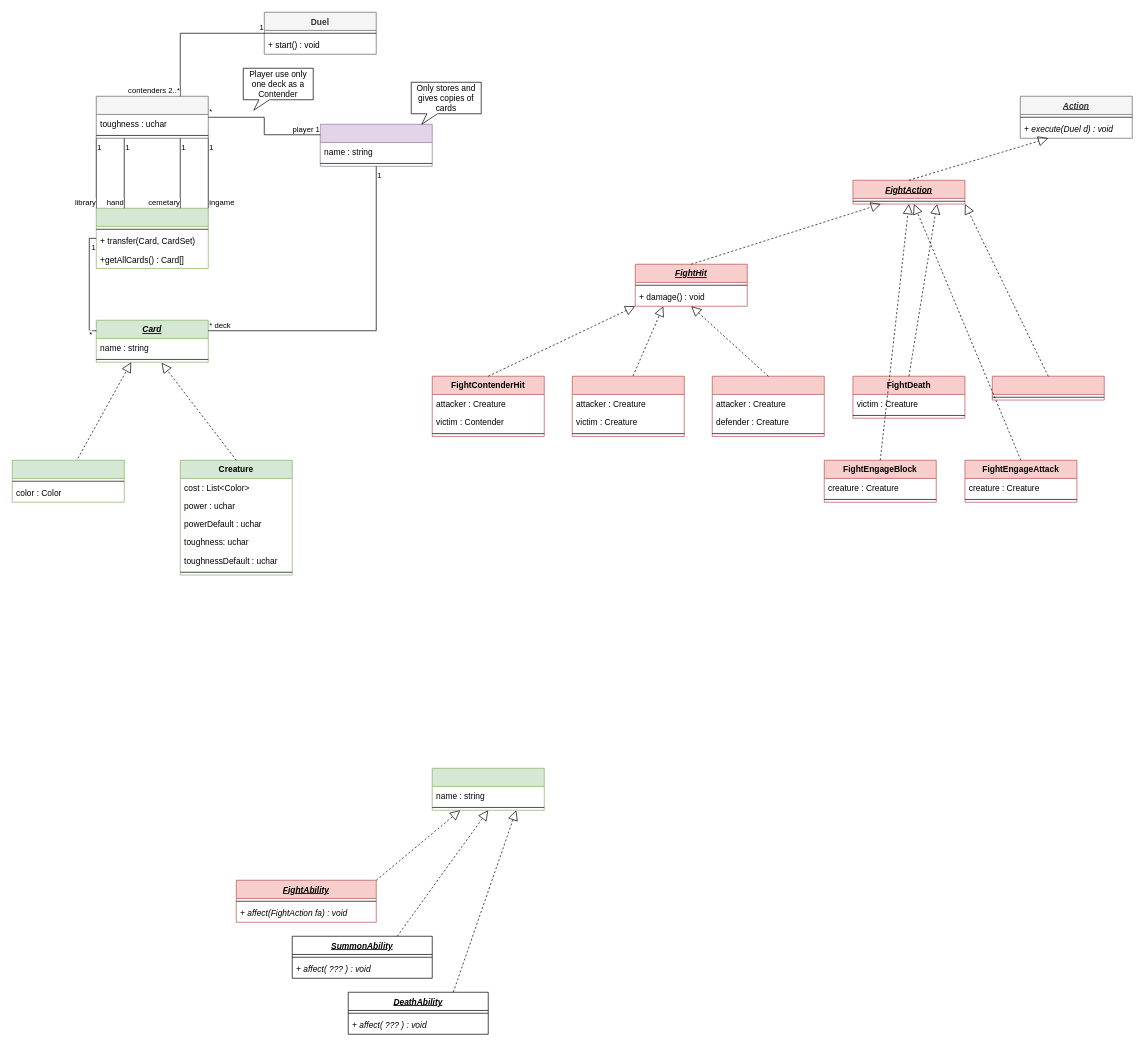
This 1145x1049 diagram has some shape labels left out. The shapes that lost their labels are listed below. From the top down, each one's box as (x1, y1, x2, y2) in pixels, then its label:
(96, 96, 208, 138): Contender
(320, 124, 432, 166): Player
(96, 208, 208, 268): CardsSet
(572, 376, 684, 436): FightCreatureHit
(712, 376, 824, 436): FightBlock
(992, 376, 1104, 400): FightDamageCount
(12, 460, 124, 502): Land
(432, 768, 544, 810): Ability
